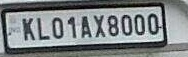0: (51, 15, 65, 40), (146, 12, 160, 36), (133, 14, 146, 36), (121, 14, 133, 37)
1: (66, 15, 79, 40)
8: (106, 14, 120, 37)
A: (81, 15, 92, 37)
K: (21, 17, 36, 41)
L: (36, 16, 51, 41)
X: (92, 14, 108, 38)
